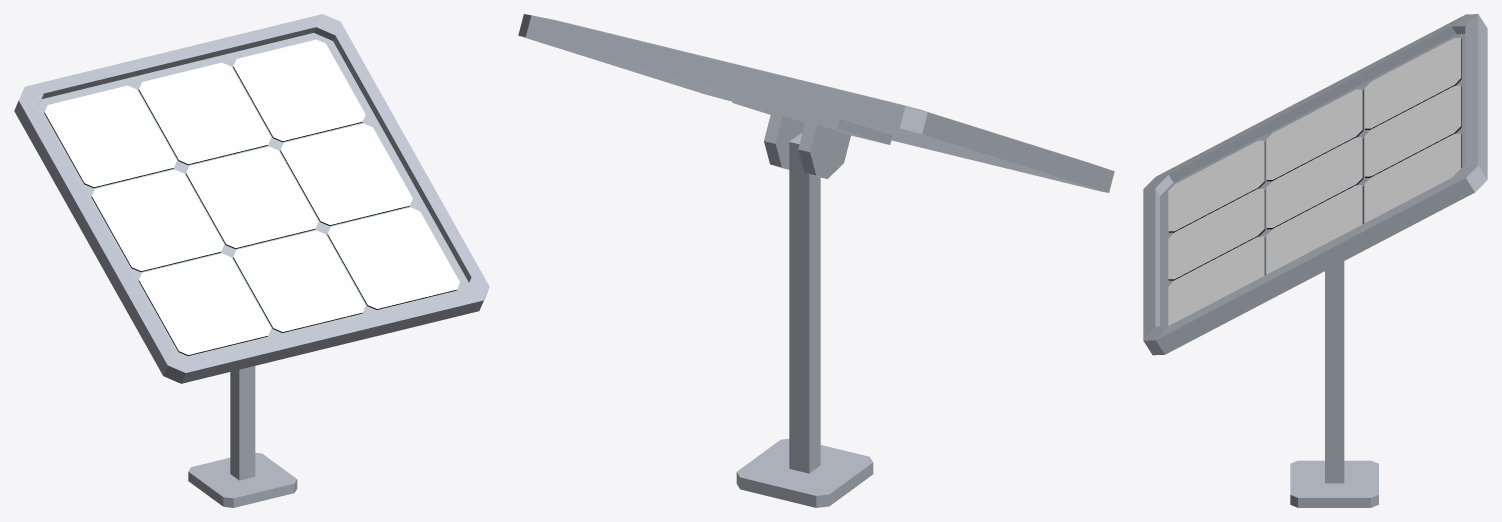
The model's file is solarpanel.gltf.
3 renders of one model, left to right at view 1: azimuth 30°, elevation 25°; view 2: azimuth 150°, elevation 25°; view 3: azimuth 270°, elevation 25°, orthographic. The views are drawn at different scales.
Visible parts, largest first — view 1: Cube.001, Cube.005; view 2: Cube.001, Cube.005; view 3: Cube.001, Cube.005.
Boxes of the visible parts, x1,y1,x2,y2 form: Cube.001: (14,14,489,383); Cube.005: (188,366,297,507); Cube.001: (518,14,1114,192); Cube.005: (736,133,873,507); Cube.001: (1143,14,1487,355); Cube.005: (1290,261,1378,507).
Size of the model in its own units: 3.15 by 3.59 by 2.8.
Materials: 3 (1 with a texture image).
